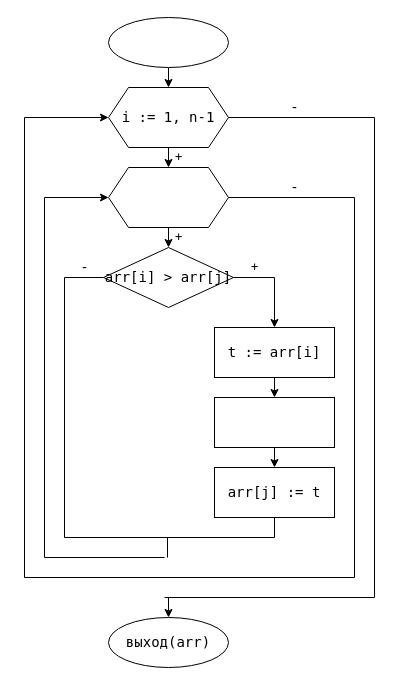
The diagram is 393 pixels wide and 685 high, and some of its shapes have lost their labels. The centre of each missing label's shape, as x and y in pixels:
"arr[i] := arr[j]" belongs at pixel 274 422.
"j := i + 1, n" belongs at pixel 168 197.
"sort_arr" belongs at pixel 168 42.
